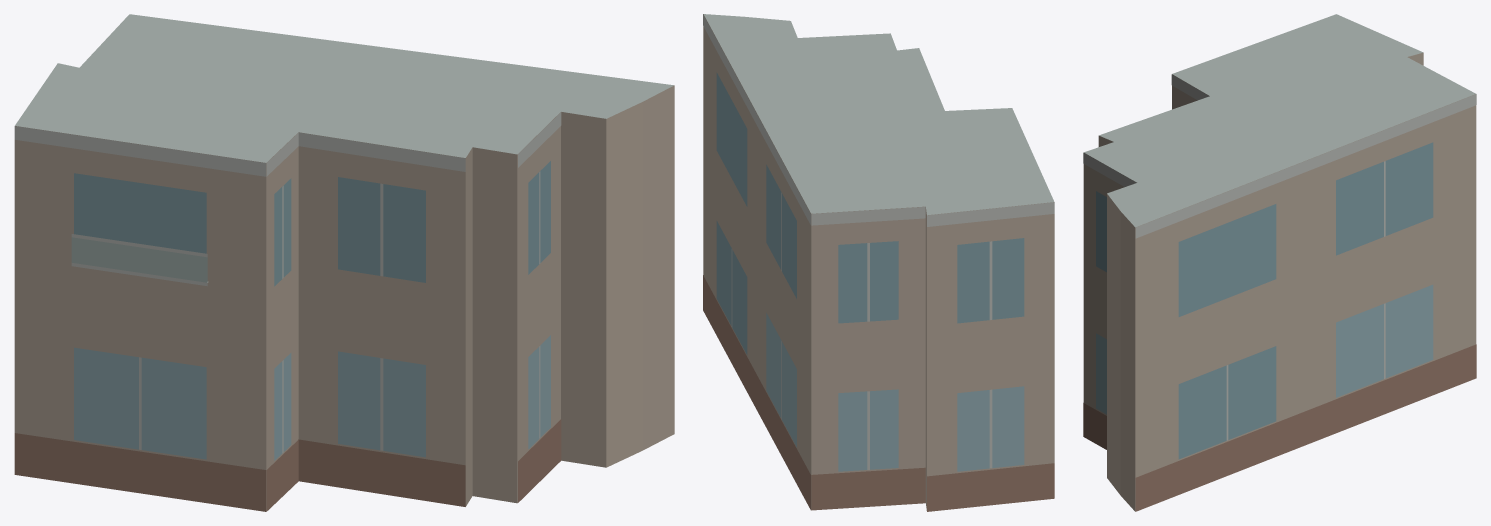
The model's file is survey-upis-33028983.glb.
3 views of the same model, side by side, from view 1: azimuth 30°, elevation 25°; view 2: azimuth 150°, elevation 25°; view 3: azimuth 270°, elevation 25° (orthographic). The views are drawn at different scales.
Parts seen in each view (by area): view 1: survey-upis-33028983.tmp; view 2: survey-upis-33028983.tmp; view 3: survey-upis-33028983.tmp.
Boxes of the visible parts, x1,y1,x2,y2 form: survey-upis-33028983.tmp: (14, 14, 674, 511); survey-upis-33028983.tmp: (703, 14, 1054, 511); survey-upis-33028983.tmp: (1083, 14, 1476, 511).
Bounding box in the file's own units: 9.82 × 6.1 × 7.64.
